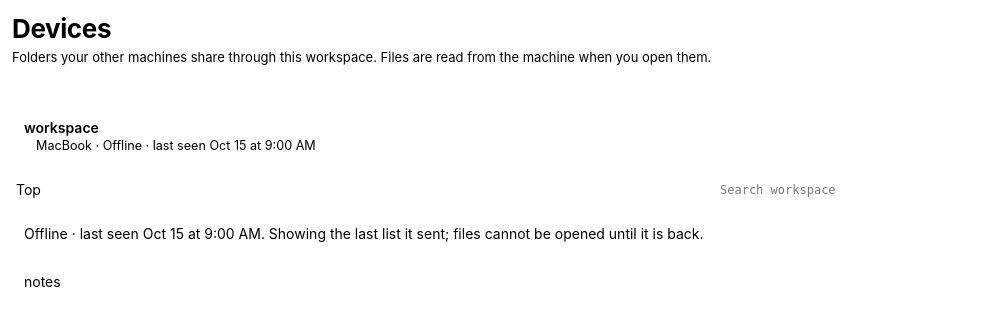
Test: DevicesPage › shows the cached list of an offline machine and refuses to open files
Expected: the message shows "Offline · last seen", [24,225,704,242]
Click the button "notes" at (42, 282), box [12,265,972,298]
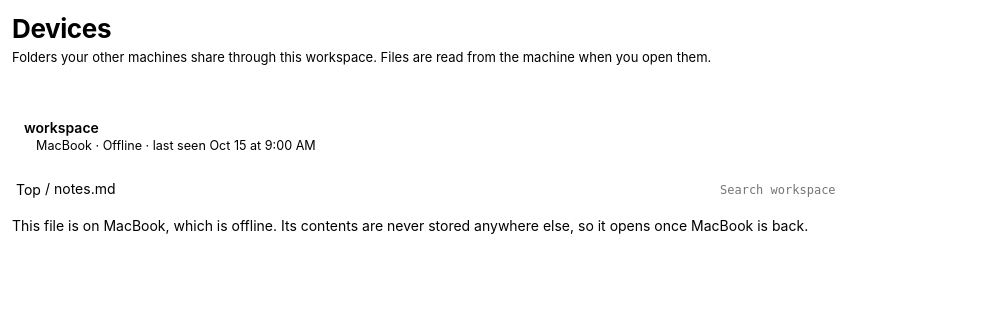
Expected: the message shows "MacBook, which is offline", [12,217,808,234]
